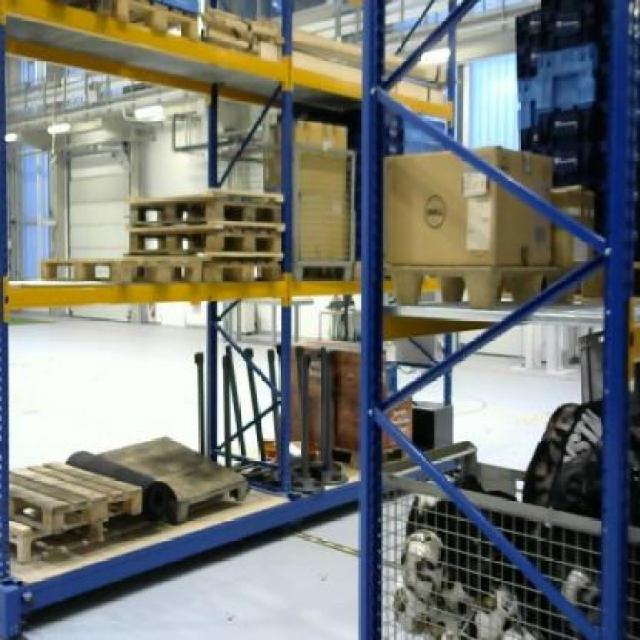box: (382, 146, 556, 265), (290, 118, 348, 258)
